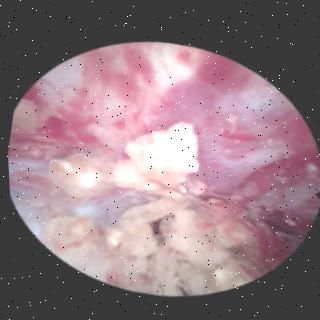stone: (101, 124, 248, 295), (45, 153, 105, 204), (41, 216, 93, 263), (9, 101, 43, 131)
